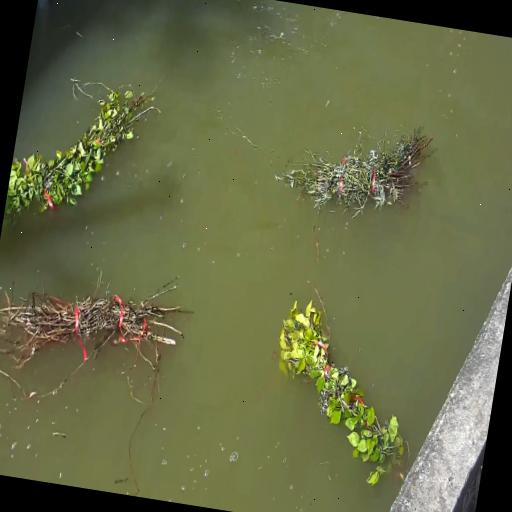twig: (250, 291, 430, 483), (0, 231, 187, 385), (6, 75, 150, 224), (277, 123, 425, 227)
